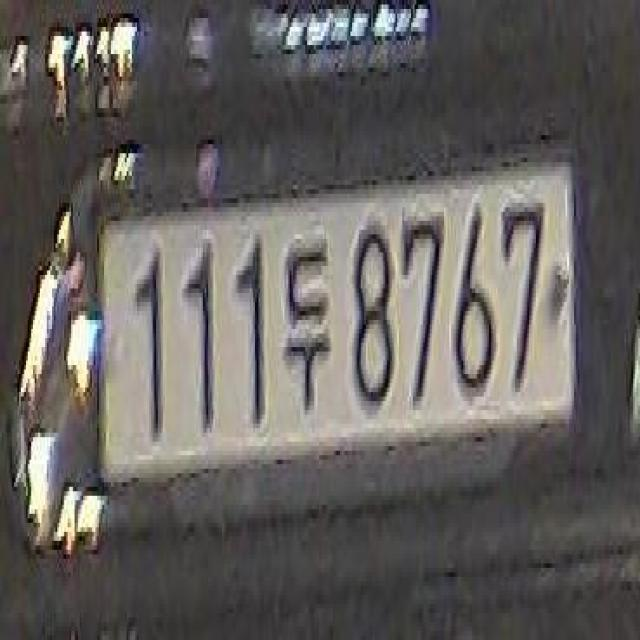illegal_plate: (95, 150, 579, 520)
